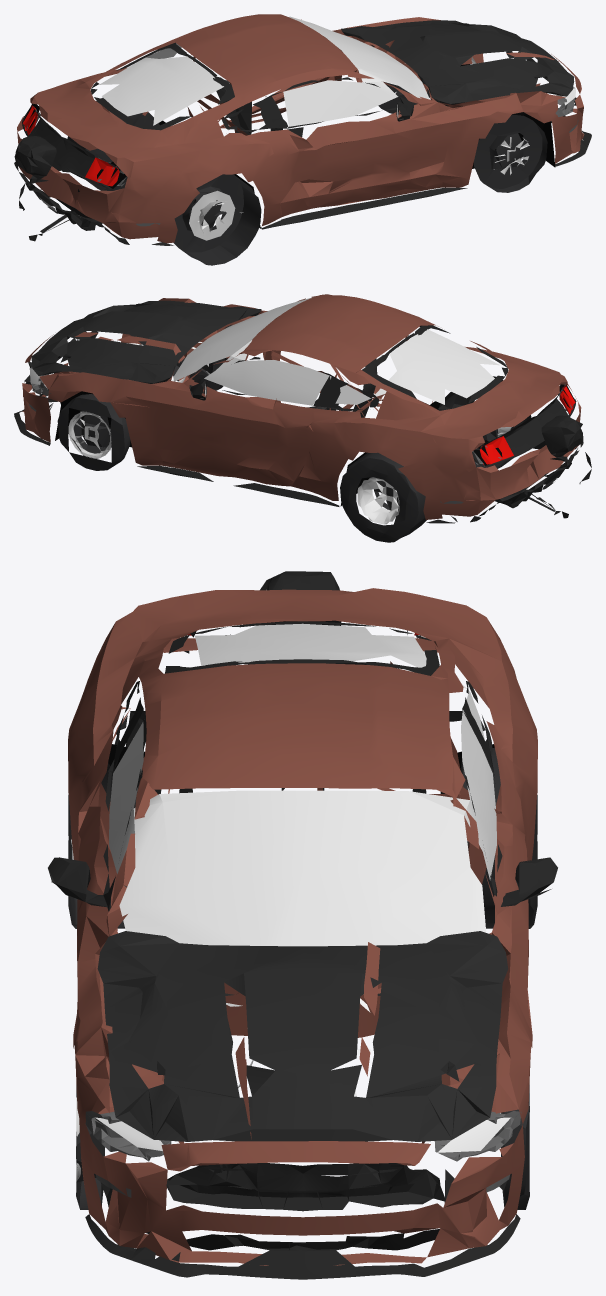
The model's file is sv_stallion_race.glb.
3 views of the same model, one above another, from view 1: azimuth 30°, elevation 25°; view 2: azimuth 150°, elevation 25°; view 3: azimuth 270°, elevation 25° (orthographic). The views are drawn at different scales.
Visible parts, largest first — view 1: Paint_Geo_lodA, Window_Geo_lodA, Carbon1_Geo_lodA, Coloured_Geo_lodA, wheel_RR_part, wheel_FR_part, Base_Geo_lodA, Window_Geo_lodA.002, Carbon1M_Geo_lodA, wheel_RL_part, Light_Geo_lodA, wheel_FL_part; view 2: Paint_Geo_lodA, Window_Geo_lodA, Carbon1_Geo_lodA, Coloured_Geo_lodA, wheel_RL_part, wheel_FL_part, Window_Geo_lodA.002, Base_Geo_lodA, wheel_RR_part, wheel_FR_part, Light_Geo_lodA, Carbon1M_Geo_lodA; view 3: Paint_Geo_lodA, Carbon1_Geo_lodA, Window_Geo_lodA, Coloured_Geo_lodA, Light_Geo_lodA, wheel_RL_part, wheel_FL_part, wheel_FR_part.
Boxes of the visible parts, x1,y1,x2,y2 form: Paint_Geo_lodA: (17,14,584,243); Window_Geo_lodA: (99,16,575,126); Carbon1_Geo_lodA: (341,20,574,106); Coloured_Geo_lodA: (14,23,591,245); wheel_RR_part: (173,174,261,265); wheel_FR_part: (474,114,547,192); Base_Geo_lodA: (23,64,555,228); Window_Geo_lodA.002: (23,105,119,186); Carbon1M_Geo_lodA: (216,80,303,137); wheel_RL_part: (67,97,159,190); Light_Geo_lodA: (26,87,578,226); wheel_FL_part: (378,74,429,113); Paint_Geo_lodA: (22,294,581,519); Window_Geo_lodA: (29,297,499,405); Carbon1_Geo_lodA: (31,300,261,383); Coloured_Geo_lodA: (14,303,591,523); wheel_RL_part: (340,452,426,542); wheel_FL_part: (57,394,130,470); Window_Geo_lodA.002: (480,384,575,464); Base_Geo_lodA: (55,384,575,506); wheel_RR_part: (438,376,531,468); wheel_FR_part: (173,358,227,390); Light_Geo_lodA: (29,367,571,503); Carbon1M_Geo_lodA: (307,358,377,417); Paint_Geo_lodA: (68,588,537,1265); Carbon1_Geo_lodA: (97,931,508,1141); Window_Geo_lodA: (95,623,510,1152); Coloured_Geo_lodA: (48,571,557,1279); Light_Geo_lodA: (85,635,521,1197); wheel_RL_part: (460,748,537,928); wheel_FL_part: (501,1085,529,1209); wheel_FR_part: (76,1085,104,1209).
Bounding box in the file's own units: 20.33 × 5.48 × 8.31.
